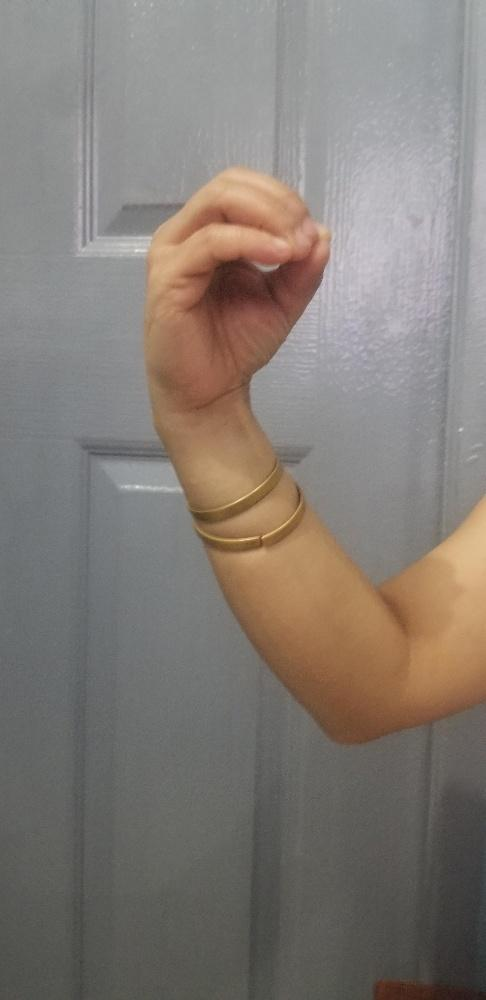o: (141, 163, 332, 401)
